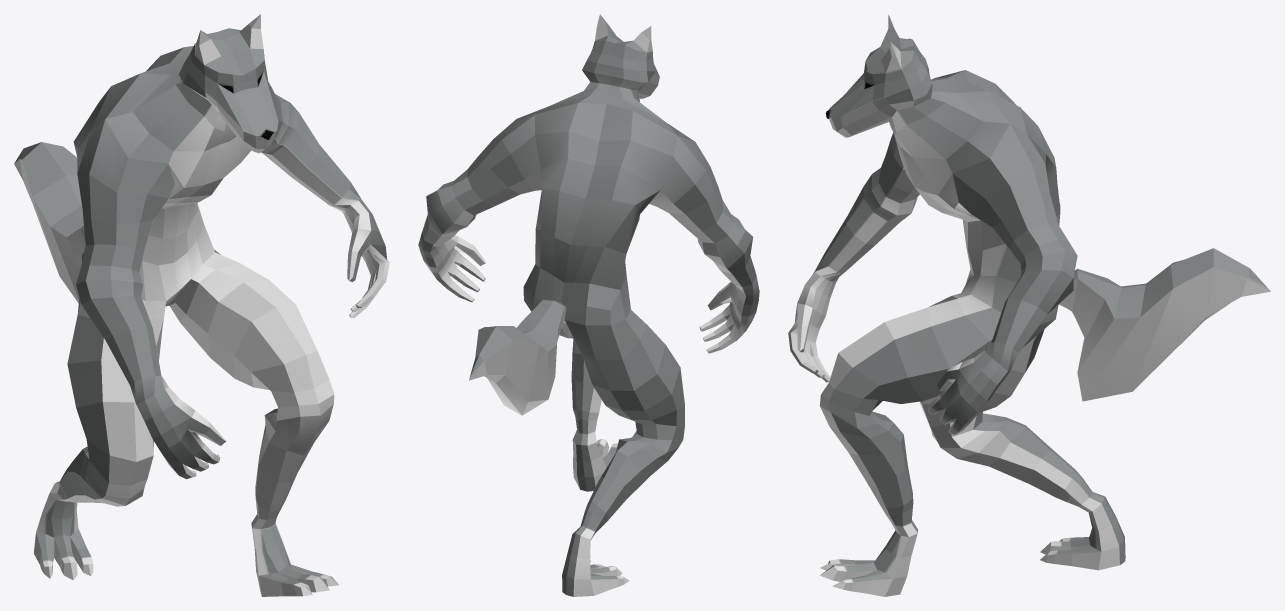
File: WolfWalk(4).obj
3 renders of one model, left to right at view 1: azimuth 30°, elevation 25°; view 2: azimuth 150°, elevation 25°; view 3: azimuth 270°, elevation 25°, orthographic. The views are drawn at different scales.
Parts seen in each view (by area): view 1: Box001; view 2: Box001; view 3: Box001.
Part boxes in pixels (x1,y1,x2,y2): Box001: (14,14,389,596); Box001: (418,14,759,596); Box001: (788,15,1270,596).
Bounding box in the file's own units: 82.87 × 138 × 108.
